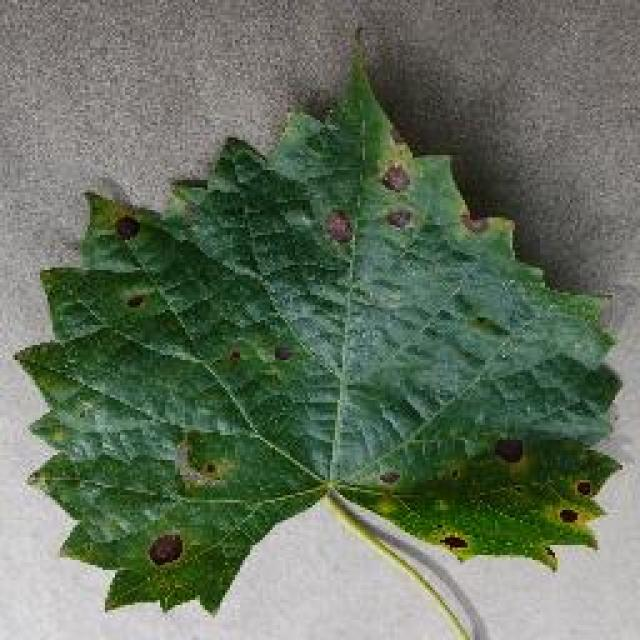Grape___Black_rot: (5, 20, 629, 624)
